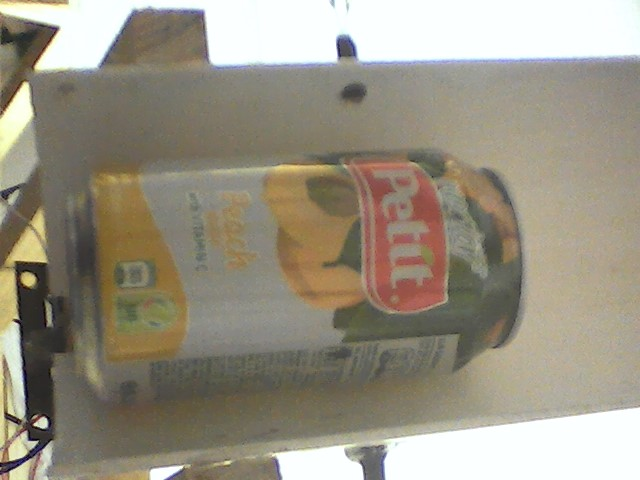lata: (56, 145, 535, 406)
